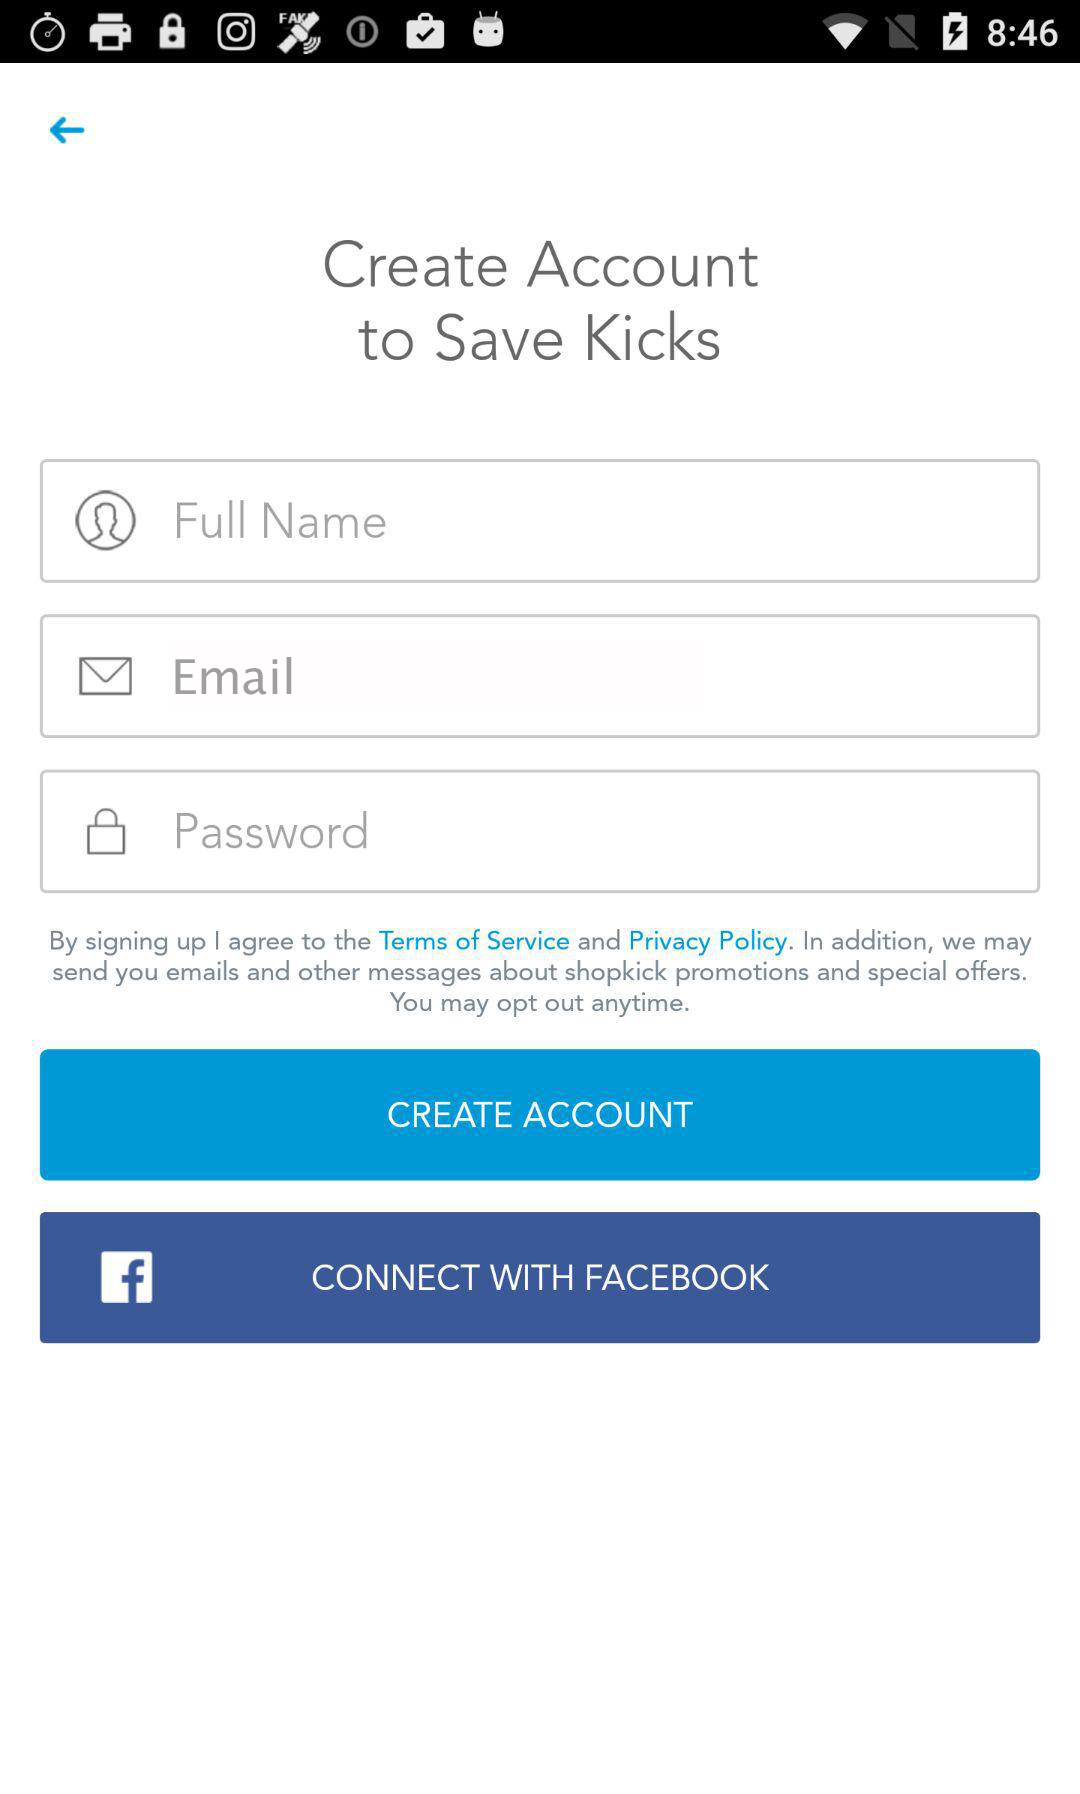EditText: (40, 769, 1042, 894), (40, 614, 1042, 739), (41, 459, 1042, 584)
Icon: (76, 490, 138, 552), (79, 657, 133, 696), (87, 809, 127, 856), (50, 117, 86, 145)
Text: (53, 928, 1033, 1017), (325, 240, 758, 361), (177, 500, 387, 539), (177, 810, 368, 850), (176, 657, 293, 696)
TextButton: (40, 1212, 1042, 1344), (40, 1049, 1042, 1181)
UpperTaskBar: (1, 1, 1080, 64)
